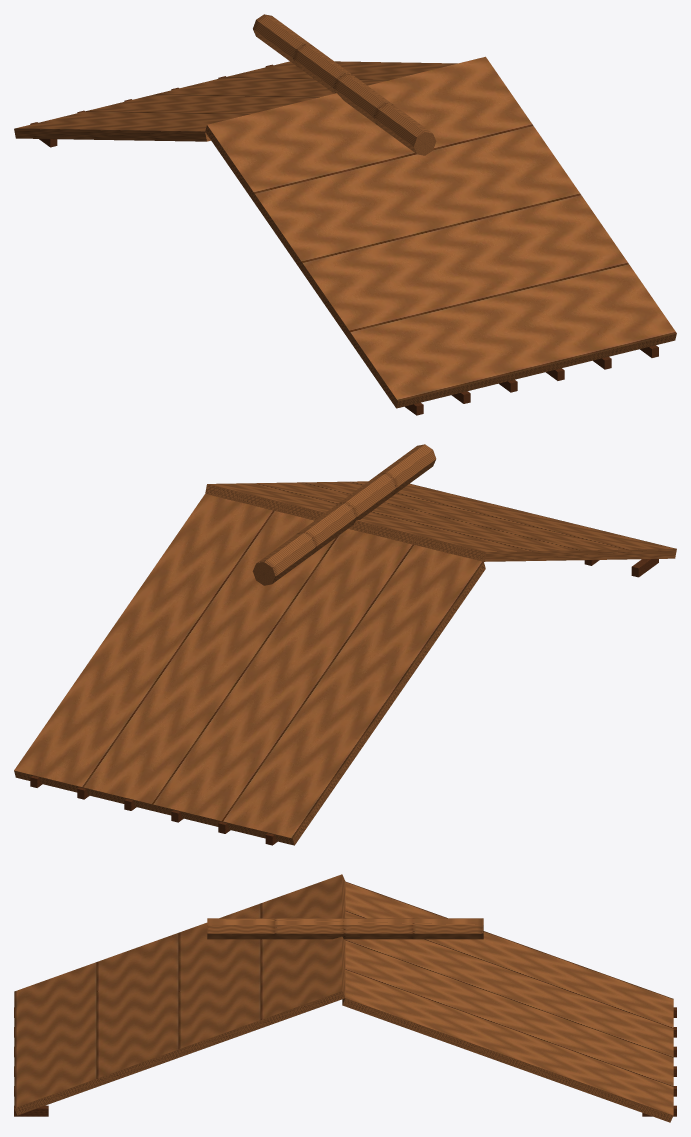
The model's file is pirate-port-and-tall-ships-warehouse-roof-section-76bbb439__30144.glb.
3 views of the same model, one above another, from view 1: azimuth 30°, elevation 25°; view 2: azimuth 150°, elevation 25°; view 3: azimuth 270°, elevation 25° (orthographic). The views are drawn at different scales.
Visible parts, largest first — view 1: warehouse-roof-section; view 2: warehouse-roof-section; view 3: warehouse-roof-section.
Boxes of the visible parts, x1=… form: warehouse-roof-section: x1=14, y1=14, x2=676, y2=415; warehouse-roof-section: x1=14, y1=444, x2=676, y2=845; warehouse-roof-section: x1=14, y1=874, x2=676, y2=1122.
Bounding box in the file's own units: 3.2 × 1.88 × 7.68.
2 materials, 2 textured.
